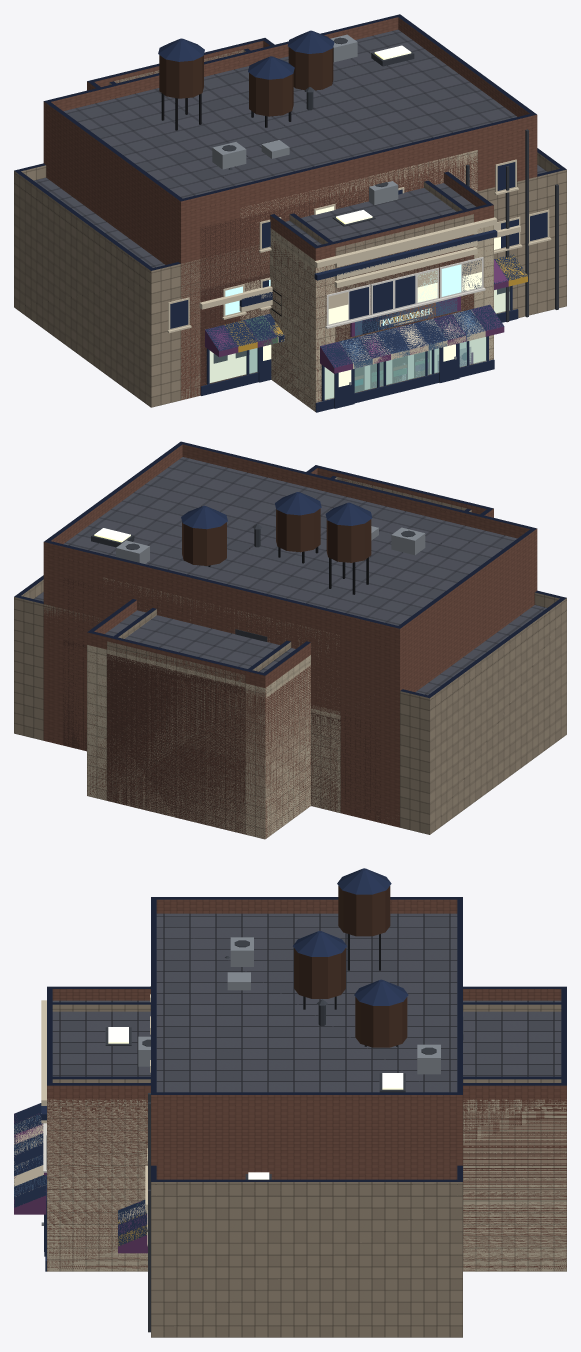
The model's file is street.glb.
3 renders of one model, top to bottom at view 1: azimuth 30°, elevation 25°; view 2: azimuth 150°, elevation 25°; view 3: azimuth 270°, elevation 25°, orthographic. The views are drawn at different scales.
Parts seen in each view (by area): view 1: bldg_rear_a, bldg_rear_c, bldg_diner, bldg_laundromat, bldg_books, bldg_rear_b, bldg_cinema, bldg_deli, bldg_rear_d, bldg_cafe, bldg_tailor, bldg_books_sign (+2 smaller); view 2: bldg_rear_a, bldg_rear_c, bldg_laundromat, bldg_books, bldg_diner, bldg_deli, bldg_rear_b, bldg_cafe, bldg_rear_d, bldg_cinema, bldg_hardware, bldg_tailor; view 3: bldg_rear_a, bldg_rear_c, bldg_laundromat, bldg_diner, bldg_deli, bldg_rear_d, bldg_rear_b, bldg_books, bldg_cinema.
Part boxes in pixels (x1,y1,x2,y2): bldg_rear_a: (43,14,537,400); bldg_rear_c: (14,148,566,407); bldg_diner: (270,225,504,412); bldg_laundromat: (87,38,497,409); bldg_books: (270,234,483,403); bldg_rear_b: (200,30,509,385); bldg_cinema: (199,225,527,395); bldg_deli: (109,48,477,392); bldg_rear_d: (228,56,477,310); bldg_cafe: (239,278,284,386); bldg_tailor: (334,246,477,389); bldg_books_sign: (355,297,457,335); bldg_rear_a: (43,441,537,827); bldg_rear_c: (14,575,566,834); bldg_laundromat: (87,465,493,838); bldg_books: (107,654,245,833); bldg_diner: (87,645,310,839); bldg_deli: (107,476,471,833); bldg_rear_b: (63,505,287,749); bldg_cafe: (311,705,340,812); bldg_rear_d: (103,492,339,810); bldg_cinema: (63,640,380,822); bldg_hardware: (311,713,340,812); bldg_tailor: (107,669,244,826); bldg_rear_a: (147,868,462,1230); bldg_rear_c: (147,1165,462,1337); bldg_laundromat: (41,986,566,1271); bldg_diner: (14,1099,566,1271); bldg_deli: (52,1002,561,1082); bldg_rear_d: (148,931,346,1102); bldg_rear_b: (147,979,408,1215); bldg_books: (14,1114,46,1251); bldg_cinema: (118,1165,147,1253).
Bounding box in the file's own units: 21 × 13 × 21.27.
Materials: 33 (6 with a texture image).
